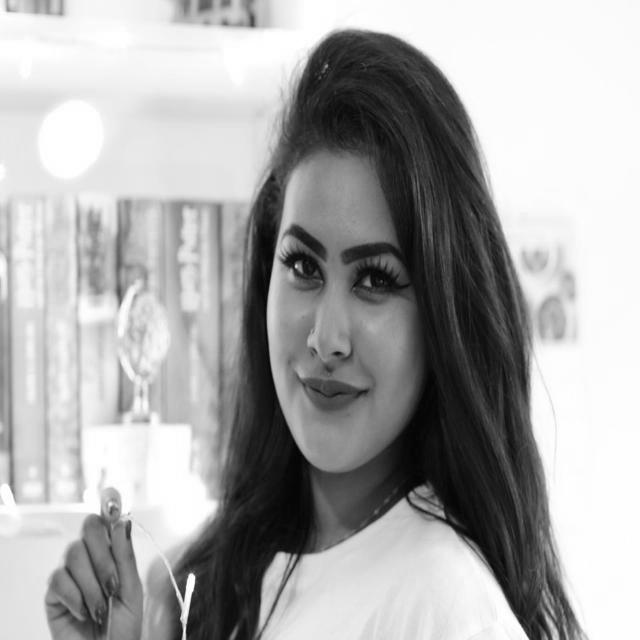Happiness: (264, 146, 426, 478)
